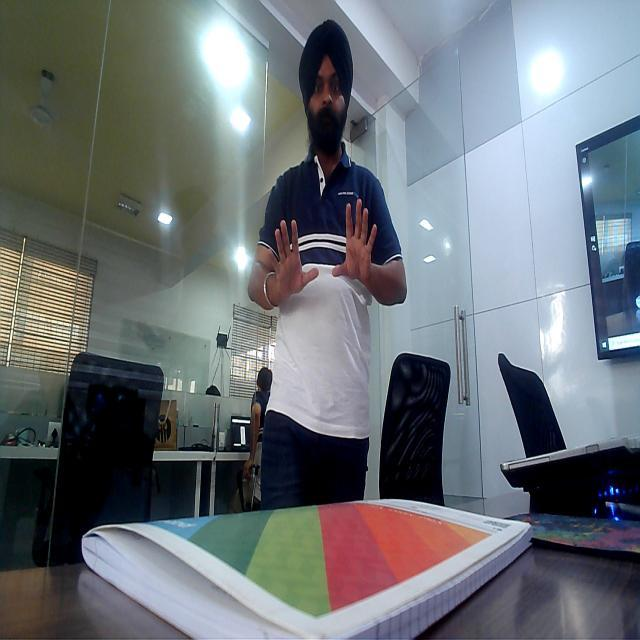without_gloves: (323, 192, 396, 304), (262, 212, 322, 306)
